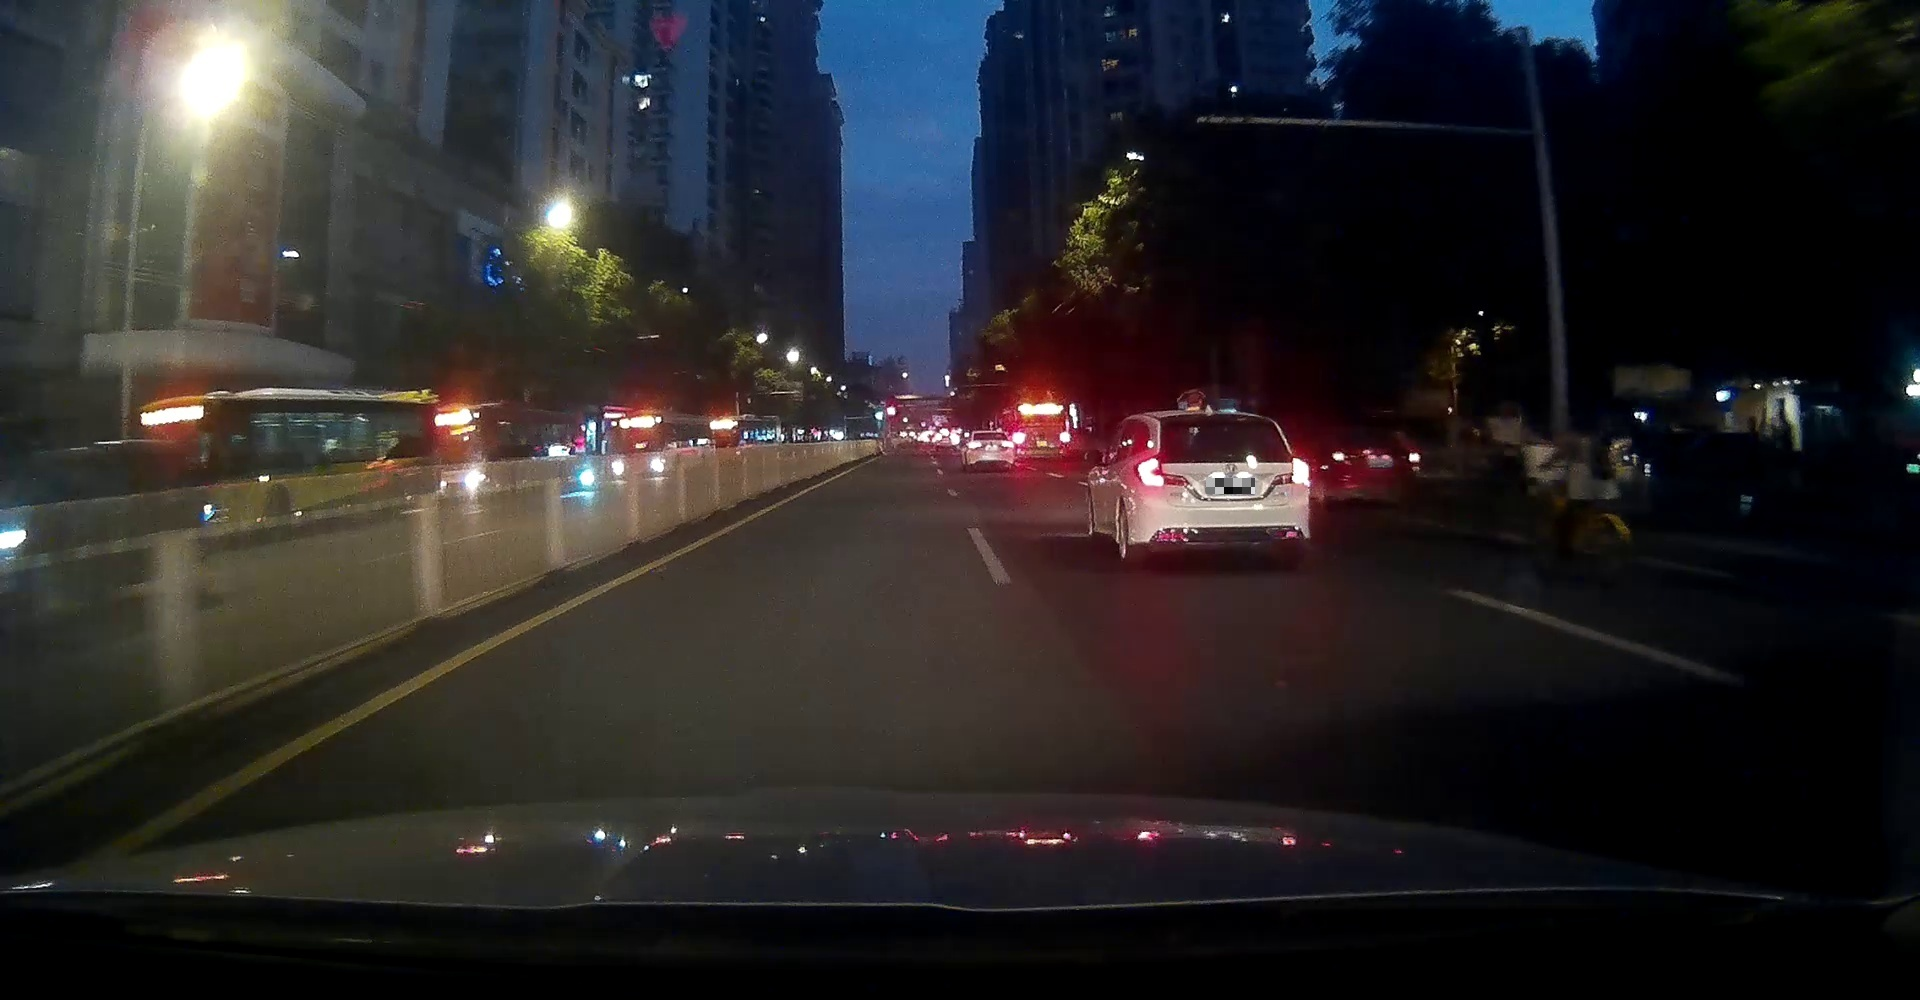L_light: (1134, 452, 1186, 487), (968, 442, 983, 449)
R_light: (1272, 457, 1308, 484), (1001, 440, 1015, 448)
T_light: (1211, 419, 1233, 425), (987, 433, 992, 435)
night-no: (1131, 409, 1309, 565), (966, 430, 1015, 471)
plate_1: (1206, 478, 1255, 494)
